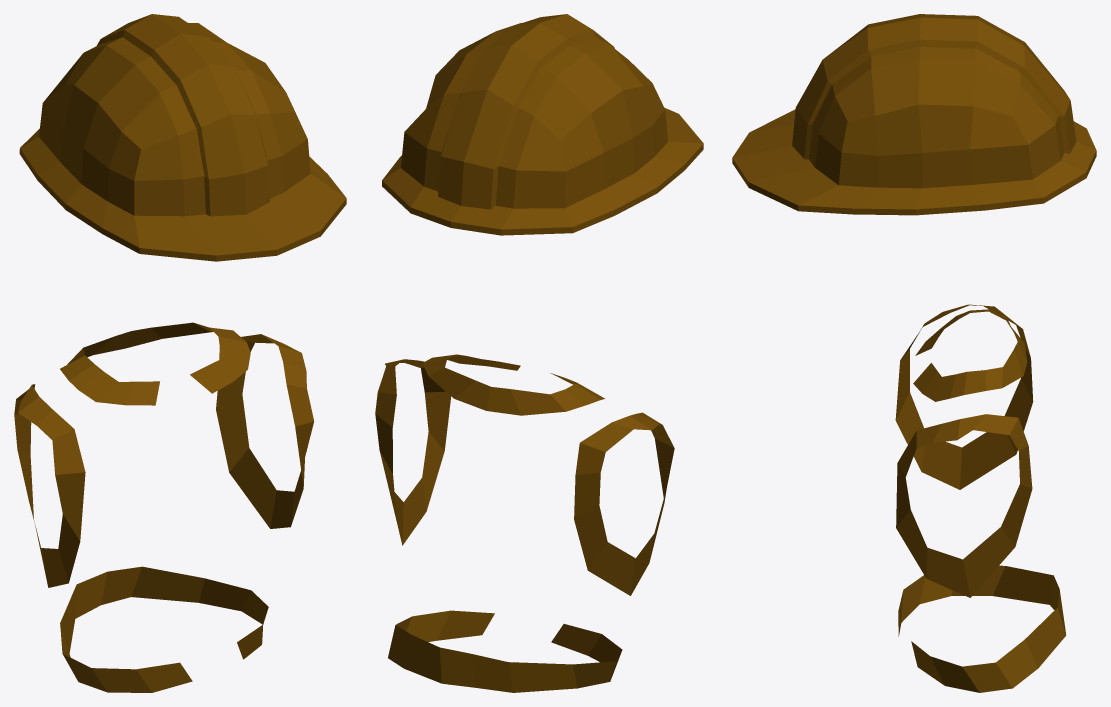
The model's file is Worker_Yellow_001.obj.
3 renders of one model, left to right at view 1: azimuth 30°, elevation 25°; view 2: azimuth 150°, elevation 25°; view 3: azimuth 270°, elevation 25°, orthographic. The views are drawn at different scales.
Bounding box in the file's own units: 0.2808 × 0.6201 × 0.328.
